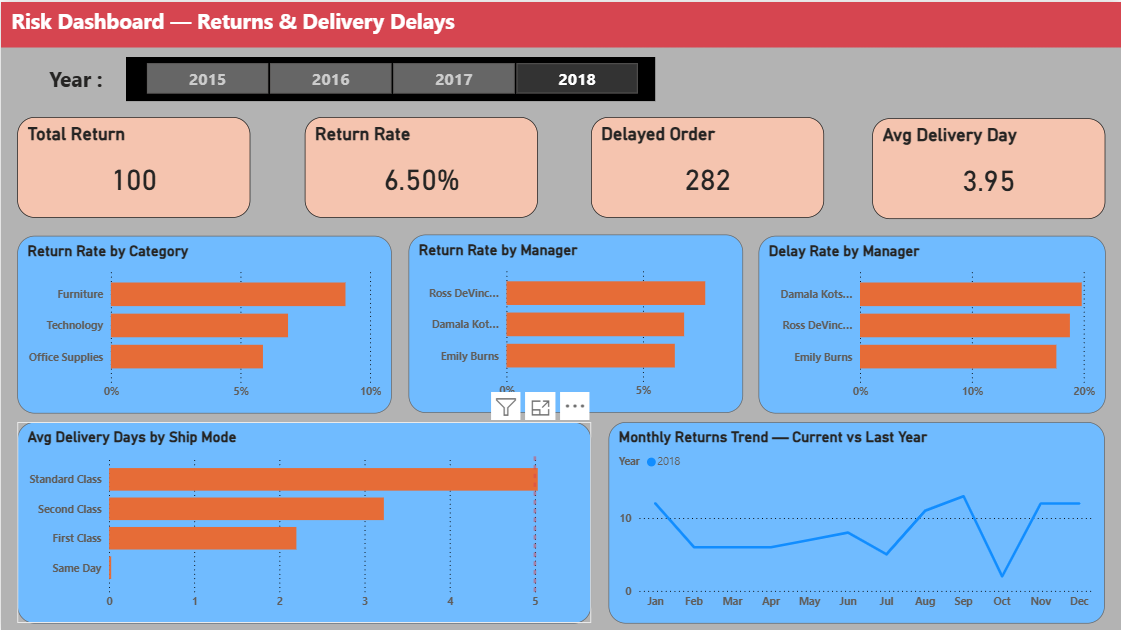

The page's visual inventory and layout, read from the dashboard file:
{"tool":"powerbi","page":{"name":"Page 3","canvas":[1280,720],"ordinal":2},"visuals":[{"type":"textbox","box":[0,0,1280,51.7],"z":0},{"type":"card","title":"Total Return","fields":{"Values":["_Measures.Total Returns"]},"box":[18.8,131.2,266.2,115],"z":1000},{"type":"slicer","fields":{"Values":["Date.Year"]},"box":[143.3,63.3,605,50],"z":2000},{"type":"card","title":"Return Rate","fields":{"Values":["_Measures.Return Rate %"]},"box":[346.7,131.7,266.7,115],"z":3000},{"type":"card","title":"Delayed Order","fields":{"Values":["_Measures.Delayed Orders"]},"box":[675,131.7,266.7,115],"z":4000},{"type":"card","title":"Avg Delivery Day","fields":{"Values":["_Measures.Avg Delivery Days"]},"box":[995,133.3,266.7,115],"z":5000},{"type":"clusteredBarChart","title":"Return Rate by Category","fields":{"Category":["orders.Category"],"Y":["_Measures.Return Rate %"]},"box":[18.3,266.7,428.3,203.3],"z":6000},{"type":"clusteredBarChart","title":"Return Rate by Manager","fields":{"Category":["People.People"],"Y":["_Measures.Return Rate %"]},"box":[465,266.2,382.5,203.8],"z":7000},{"type":"clusteredBarChart","fields":{"Category":["orders.Ship Mode"],"Y":["_Measures.Avg Delivery Days"]},"box":[18.8,480,656.2,230],"z":8000},{"type":"clusteredBarChart","title":"Delay Rate by Manager","fields":{"Category":["People.People"],"Y":["_Measures.Delay Rate %"]},"box":[865,266.7,396.7,203.3],"z":9000},{"type":"lineChart","title":"Monthly Returns Trend — Current vs Last Year","fields":{"Category":["Date.Month Name"],"Y":["_Measures.Total Returns"],"Series":["Date.Year"]},"box":[693.8,480,567.5,230],"z":10000},{"type":"textbox","box":[50,66.7,101.7,43.3],"z":11000}]}

Visuals, with their boxes in screenshot pixels (x1, y1, x2, y2), scaled from the page's 1280x720 canvas onto the 1121x630 screenshot:
textbox: bbox=[0, 0, 1120, 45]
"Total Return" card: bbox=[16, 115, 250, 215]
slicer - Date.Year: bbox=[125, 55, 655, 99]
"Return Rate" card: bbox=[304, 115, 537, 216]
"Delayed Order" card: bbox=[591, 115, 825, 216]
"Avg Delivery Day" card: bbox=[871, 117, 1105, 217]
"Return Rate by Category" clusteredBarChart: bbox=[16, 233, 391, 411]
"Return Rate by Manager" clusteredBarChart: bbox=[407, 233, 742, 411]
clusteredBarChart - orders.Ship Mode x _Measures.Avg Delivery Days: bbox=[16, 420, 591, 621]
"Delay Rate by Manager" clusteredBarChart: bbox=[758, 233, 1105, 411]
"Monthly Returns Trend — Current vs Last Year" lineChart: bbox=[608, 420, 1105, 621]
textbox: bbox=[44, 58, 133, 96]
